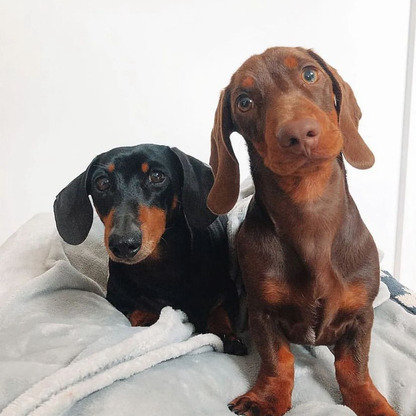dachshund: (202, 36, 407, 375), (53, 138, 212, 334)
